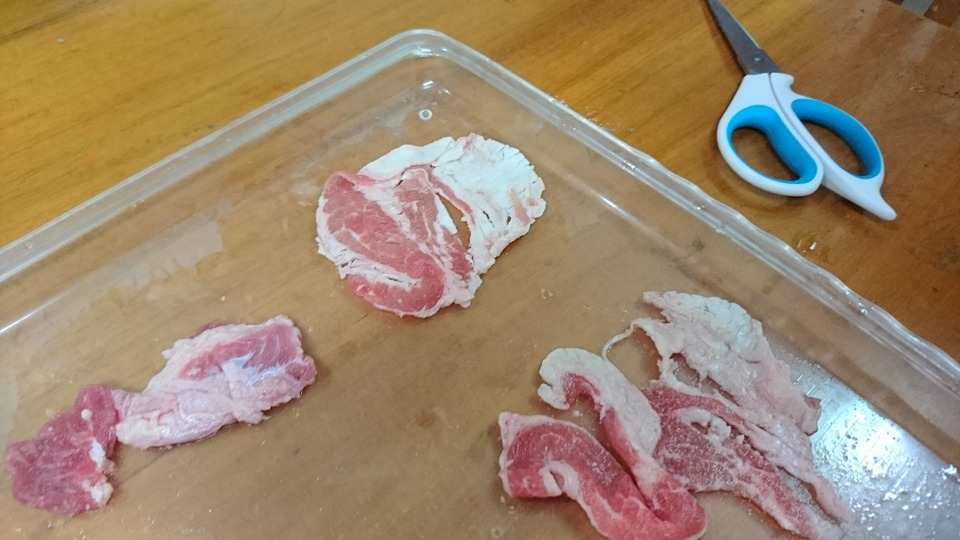restructured meat: (481, 279, 850, 540), (4, 302, 311, 530), (307, 135, 548, 317)
